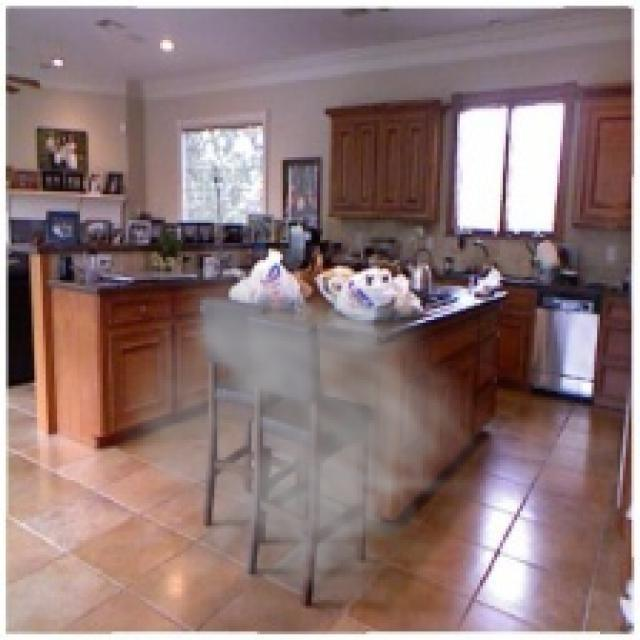Smoke: (100, 268, 497, 626)
